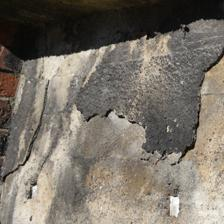Crack: (0, 15, 107, 119), (40, 68, 128, 115), (70, 70, 96, 154)
